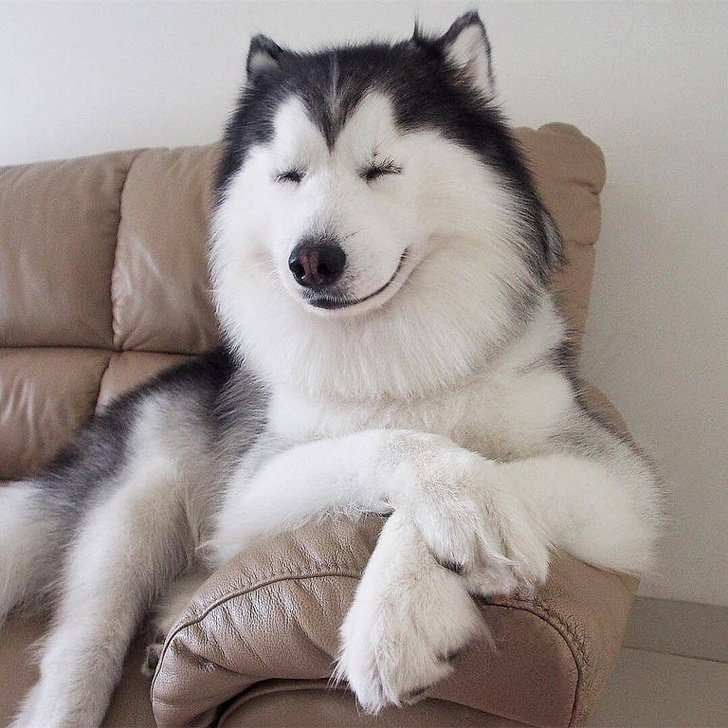husky: (175, 10, 618, 616)
